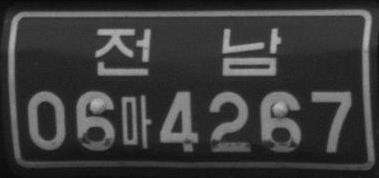0: (26, 88, 66, 150)
2: (209, 90, 253, 152)
4: (159, 89, 199, 152)
6: (258, 90, 302, 153), (74, 89, 116, 151)
7: (309, 89, 352, 153)
마: (120, 94, 152, 148)
전남_D: (95, 27, 282, 77)
